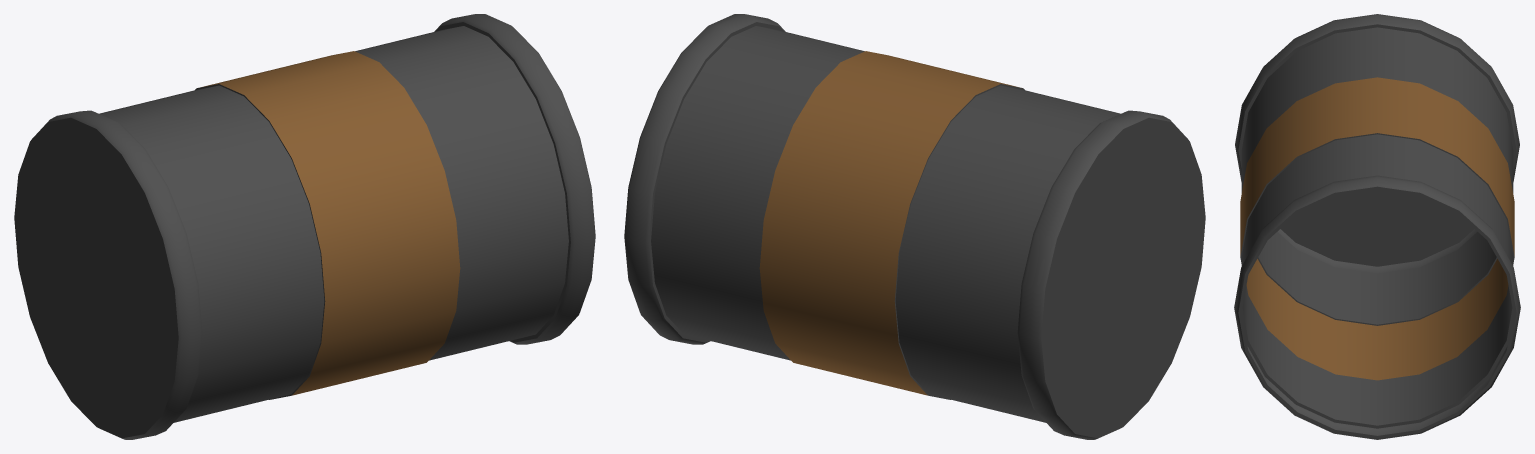
The model's file is Barrel4_opentop_colourcoded.fbx.
3 views of the same model, side by side, from view 1: azimuth 30°, elevation 25°; view 2: azimuth 150°, elevation 25°; view 3: azimuth 270°, elevation 25° (orthographic). The views are drawn at different scales.
Visible parts, largest first — view 1: pCylinder1; view 2: pCylinder1; view 3: pCylinder1.
Part boxes in pixels (bbox=[...]): pCylinder1: bbox=[14, 14, 595, 439]; pCylinder1: bbox=[624, 14, 1205, 439]; pCylinder1: bbox=[1234, 14, 1520, 439].
Bounding box in the file's own units: 6 × 4.22 × 4.22.
